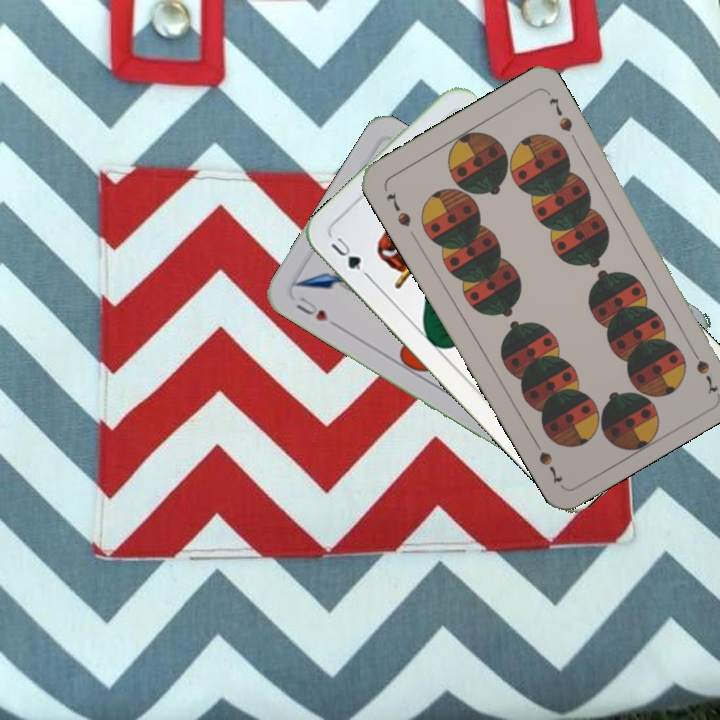GU: (326, 232, 364, 273)
HU: (292, 292, 331, 324)
S7: (382, 188, 414, 230), (684, 340, 713, 377)
